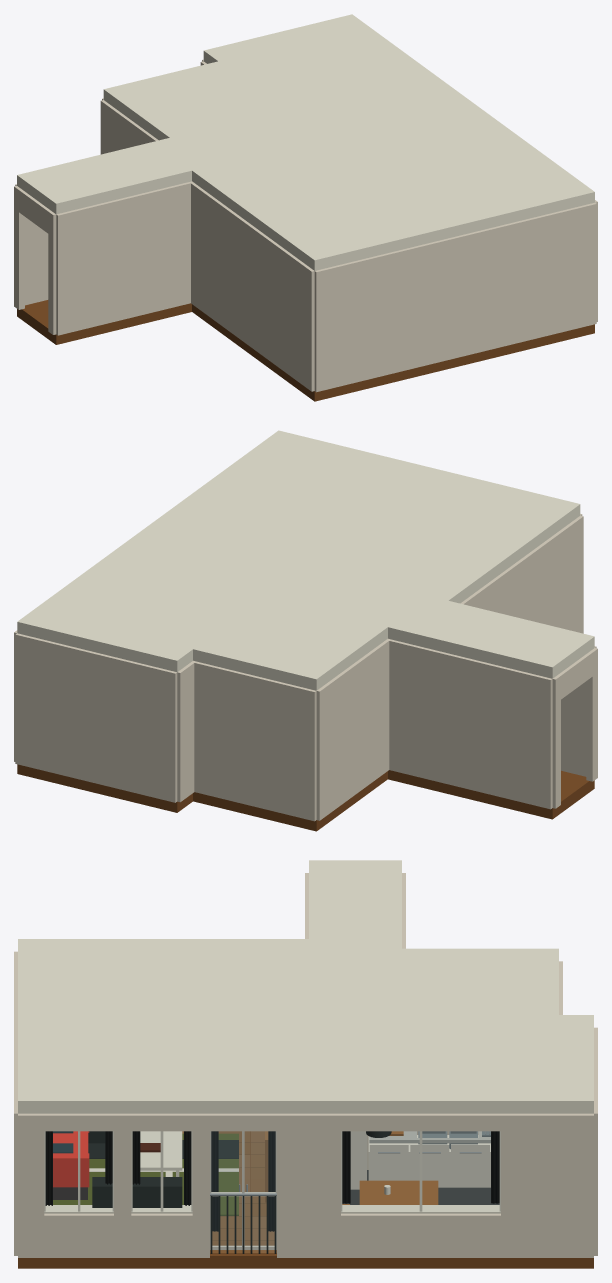
The model's file is apartment.glb.
The picture shows the model from 3 angles, top to bottom: view 1: azimuth 30°, elevation 25°; view 2: azimuth 150°, elevation 25°; view 3: azimuth 270°, elevation 25°; orthographic projection. The views are drawn at different scales.
Parts seen in each view (by area): view 1: ApartmentPart1, ApartmentPart73, ApartmentPart3, ApartmentPart79, ApartmentPart74, ApartmentPart7, ApartmentPart5, ApartmentPart0, ApartmentPart6, ApartmentPart78, ApartmentPart77, ApartmentPart80 (+2 smaller); view 2: ApartmentPart1, ApartmentPart3, ApartmentPart78, ApartmentPart75, ApartmentPart76, ApartmentPart7, ApartmentPart5, ApartmentPart77, ApartmentPart74, ApartmentPart6, ApartmentPart84, ApartmentPart79 (+5 smaller); view 3: ApartmentPart1, ApartmentPart3, ApartmentPart7, ApartmentPart97, ApartmentPart5, ApartmentPart100, ApartmentPart98, ApartmentPart108, ApartmentPart0, ApartmentPart106, ApartmentPart2, ApartmentPart99 (+31 smaller).
Boxes of the visible parts, x1,y1,x2,y2 form: ApartmentPart1: (192, 102, 594, 270); ApartmentPart73: (314, 202, 596, 392); ApartmentPart3: (203, 14, 471, 138); ApartmentPart79: (56, 181, 193, 335); ApartmentPart74: (191, 182, 314, 391); ApartmentPart7: (17, 110, 323, 214); ApartmentPart5: (103, 61, 283, 140); ApartmentPart0: (192, 304, 594, 401); ApartmentPart6: (17, 300, 191, 344); ApartmentPart78: (15, 184, 48, 305); ApartmentPart77: (100, 100, 158, 154); ApartmentPart80: (14, 186, 56, 237); ApartmentPart1: (147, 430, 580, 603); ApartmentPart3: (17, 527, 306, 671); ApartmentPart78: (387, 639, 552, 809); ApartmentPart75: (15, 633, 177, 802); ApartmentPart76: (194, 661, 316, 821); ApartmentPart7: (265, 566, 594, 678); ApartmentPart5: (193, 597, 387, 690); ApartmentPart77: (316, 638, 389, 820); ApartmentPart74: (460, 515, 583, 633); ApartmentPart6: (388, 770, 594, 819); ApartmentPart84: (177, 660, 195, 802); ApartmentPart79: (561, 646, 596, 776); ApartmentPart1: (18, 939, 308, 1113); ApartmentPart3: (309, 1015, 593, 1113); ApartmentPart7: (309, 860, 401, 1014); ApartmentPart97: (501, 1113, 593, 1257); ApartmentPart5: (402, 948, 558, 1014); ApartmentPart100: (277, 1113, 340, 1257); ApartmentPart98: (341, 1213, 500, 1257); ApartmentPart108: (18, 1113, 44, 1257); ApartmentPart0: (18, 1131, 308, 1268); ApartmentPart106: (44, 1213, 113, 1257); ApartmentPart2: (309, 1258, 593, 1268); ApartmentPart99: (341, 1113, 500, 1131).
Size of what is drawn, in the model's own units: 9.94 by 3.18 by 10.04.
